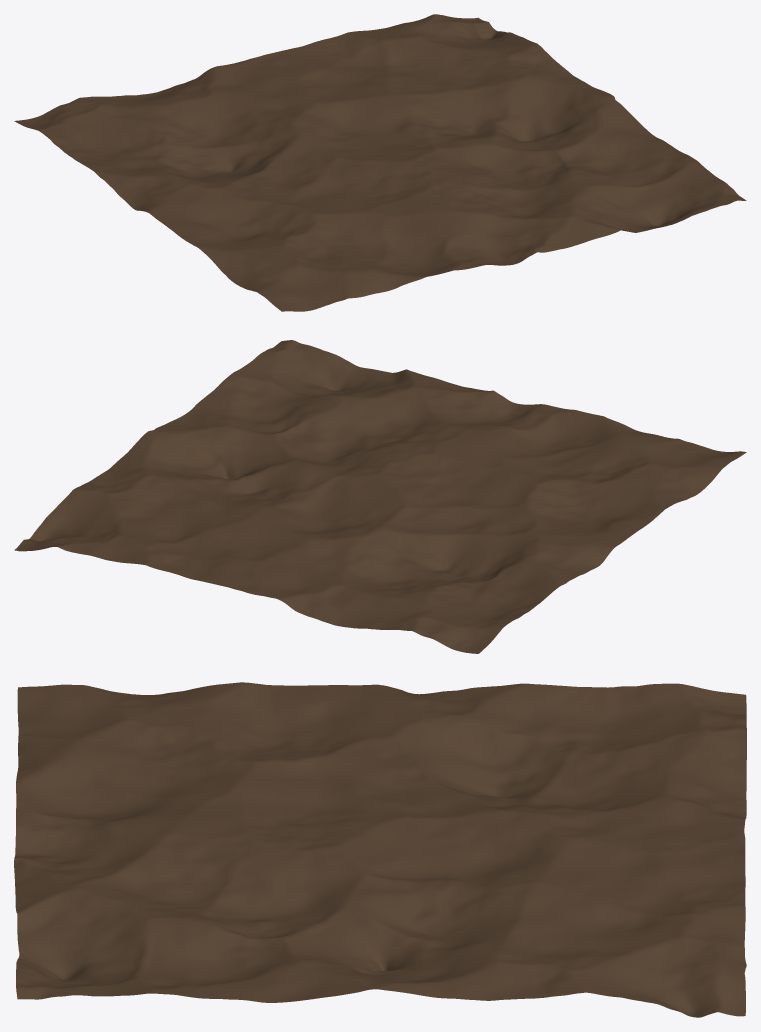
Rendered from sand.glb.
3 renders of one model, top to bottom at view 1: azimuth 30°, elevation 25°; view 2: azimuth 150°, elevation 25°; view 3: azimuth 270°, elevation 25°, orthographic. The views are drawn at different scales.
Visible parts, largest first — view 1: Sand; view 2: Sand; view 3: Sand.
Part boxes in pixels (box(x1,y1,x2,y2)): Sand: box(14, 14, 746, 311); Sand: box(14, 340, 746, 653); Sand: box(14, 682, 746, 1017).
Bounding box in the file's own units: 43.07 × 2.84 × 43.15.
